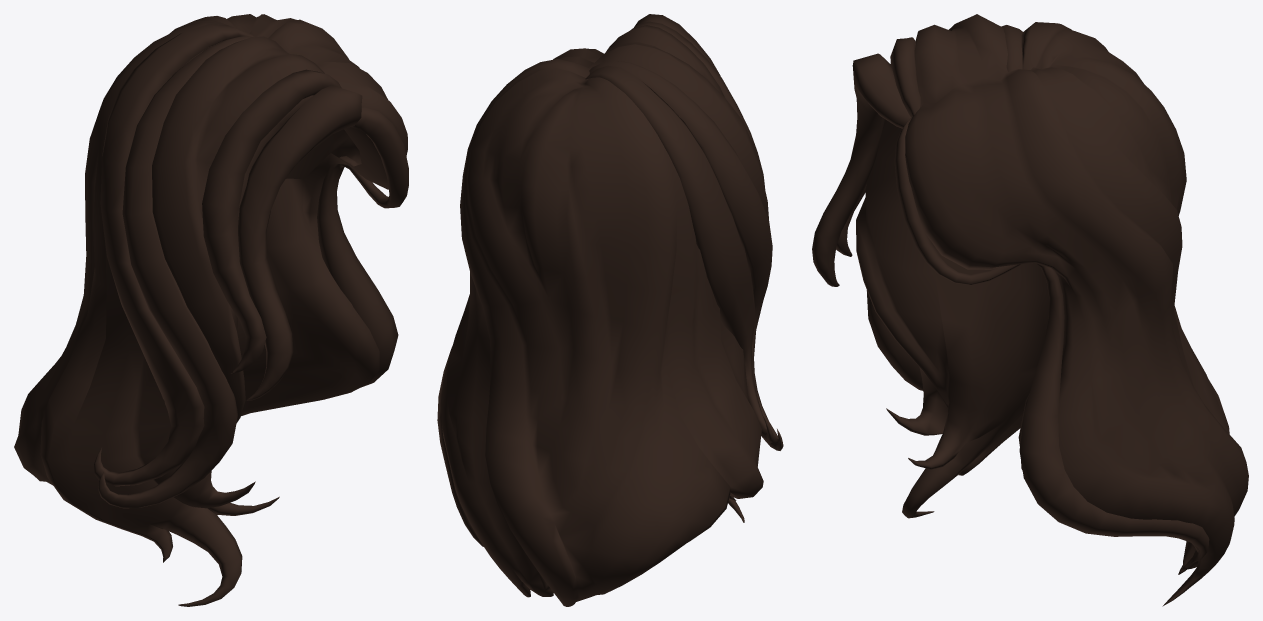
The model's file is Hair.fbx.
3 renders of one model, left to right at view 1: azimuth 30°, elevation 25°; view 2: azimuth 150°, elevation 25°; view 3: azimuth 270°, elevation 25°, orthographic. The views are drawn at different scales.
Visible parts, largest first — view 1: hair-60; view 2: hair-60; view 3: hair-60.
Boxes of the visible parts, x1,y1,x2,y2 form: hair-60: [14, 14, 408, 606]; hair-60: [437, 14, 783, 606]; hair-60: [812, 14, 1248, 606].
Size of the model in its own units: 952 by 1458 by 1020.
